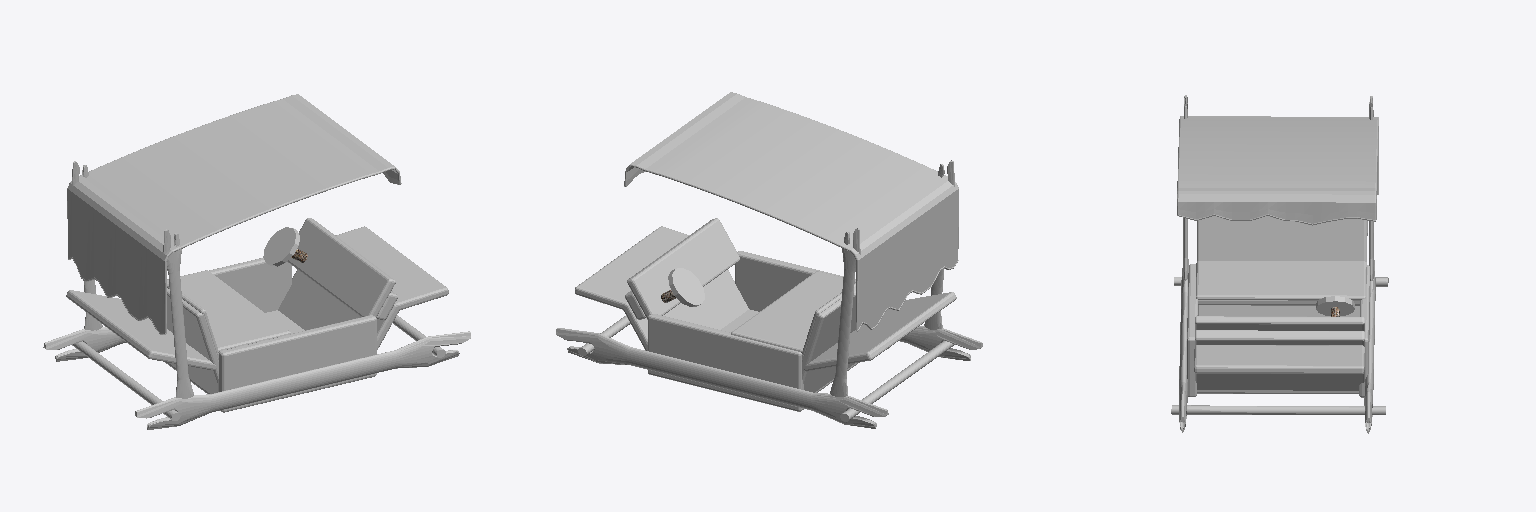
3 views of the same model, side by side, from view 1: azimuth 30°, elevation 25°; view 2: azimuth 150°, elevation 25°; view 3: azimuth 270°, elevation 25° (orthographic).
Visible parts, largest first — view 1: ChamferBox011, ChamferBox007, ChamferBox006, ChamferBox012, Cylinder022, ChamferBox010, ChamferBox004, ChamferBox003, ChamferBox008, Cylinder023, ChamferBox005, Cylinder027 (+4 smaller); view 2: ChamferBox011, ChamferBox008, ChamferBox006, ChamferBox012, Cylinder025, ChamferBox010, ChamferBox004, ChamferBox007, ChamferBox003, Cylinder024, ChamferBox005, Cylinder023 (+4 smaller); view 3: ChamferBox011, ChamferBox013, ChamferBox012, ChamferBox004, ChamferBox003, ChamferBox009, ChamferBox006, Cylinder003.001, ChamferBox005, ChamferBox007, Cylinder022, ChamferBox002 (+3 smaller).
Boxes of the visible parts, box(x1,y1,x2,y2) form: ChamferBox011: box(67, 94, 401, 334); ChamferBox007: box(218, 315, 376, 412); ChamferBox006: box(287, 218, 395, 317); ChamferBox012: box(167, 270, 290, 352); Cylinder022: box(217, 331, 470, 410); ChamferBox010: box(66, 290, 215, 370); ChamferBox004: box(335, 226, 448, 309); ChamferBox003: box(278, 269, 399, 349); ChamferBox008: box(209, 258, 291, 312); Cylinder023: box(135, 352, 391, 429); ChamferBox005: box(167, 288, 218, 393); Cylinder027: box(169, 274, 193, 398); ChamferBox011: box(624, 92, 958, 331); ChamferBox008: box(648, 314, 803, 411); ChamferBox006: box(627, 218, 739, 319); ChamferBox012: box(731, 271, 855, 353); Cylinder025: box(634, 348, 888, 428); ChamferBox010: box(804, 292, 956, 371); ChamferBox004: box(575, 226, 689, 309); ChamferBox007: box(735, 251, 889, 348); ChamferBox003: box(623, 270, 748, 350); Cylinder024: box(556, 328, 807, 408); ChamferBox005: box(802, 288, 862, 392); Cylinder023: box(899, 326, 982, 360); ChamferBox011: box(1177, 116, 1378, 225); ChamferBox013: box(1197, 216, 1366, 261); ChamferBox012: box(1196, 261, 1366, 300); ChamferBox004: box(1194, 345, 1364, 373); ChamferBox003: box(1195, 345, 1364, 390); ChamferBox009: box(1195, 330, 1364, 346); ChamferBox006: box(1195, 316, 1364, 330); Cylinder003.001: box(1171, 405, 1385, 414); ChamferBox005: box(1199, 305, 1359, 316); ChamferBox007: box(1187, 264, 1198, 396); Cylinder022: box(1179, 295, 1187, 432); ChamferBox002: box(1198, 300, 1359, 305).
Size of the model in its own units: 45.14 by 27.21 by 25.42.
Materials: 6 (1 with a texture image).